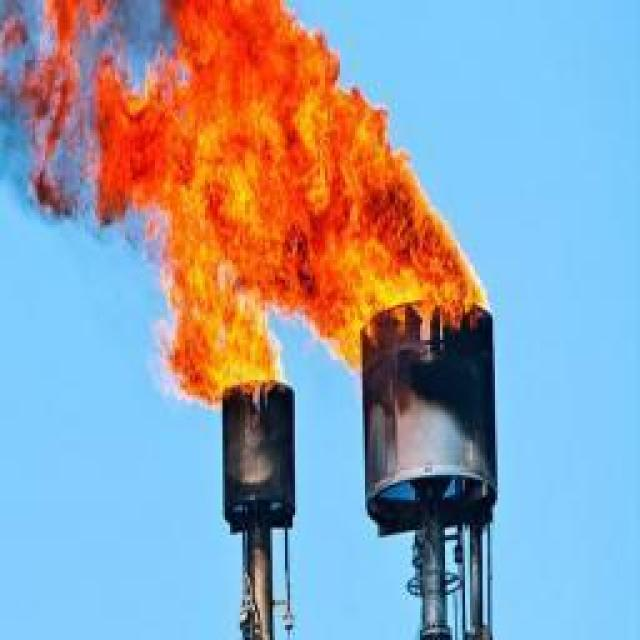fire: (95, 1, 493, 404)
smoke: (1, 1, 183, 274)
